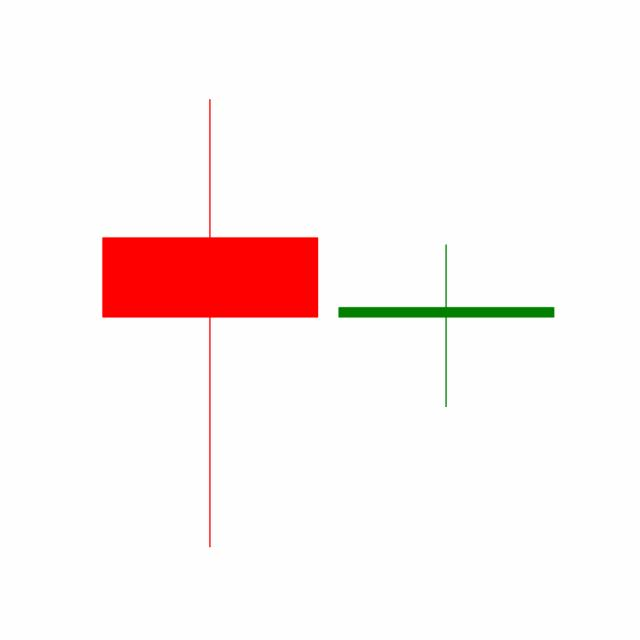Dragonfly Doji: (327, 242, 565, 410)
